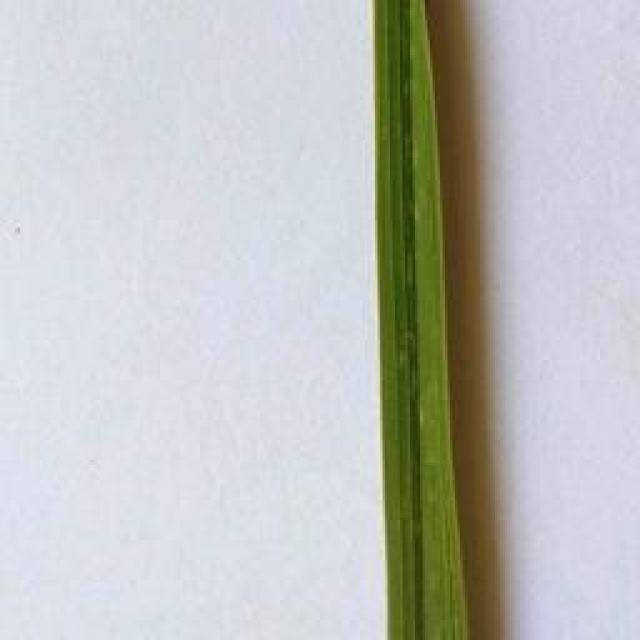Healthy-Plant: (367, 0, 480, 640)
